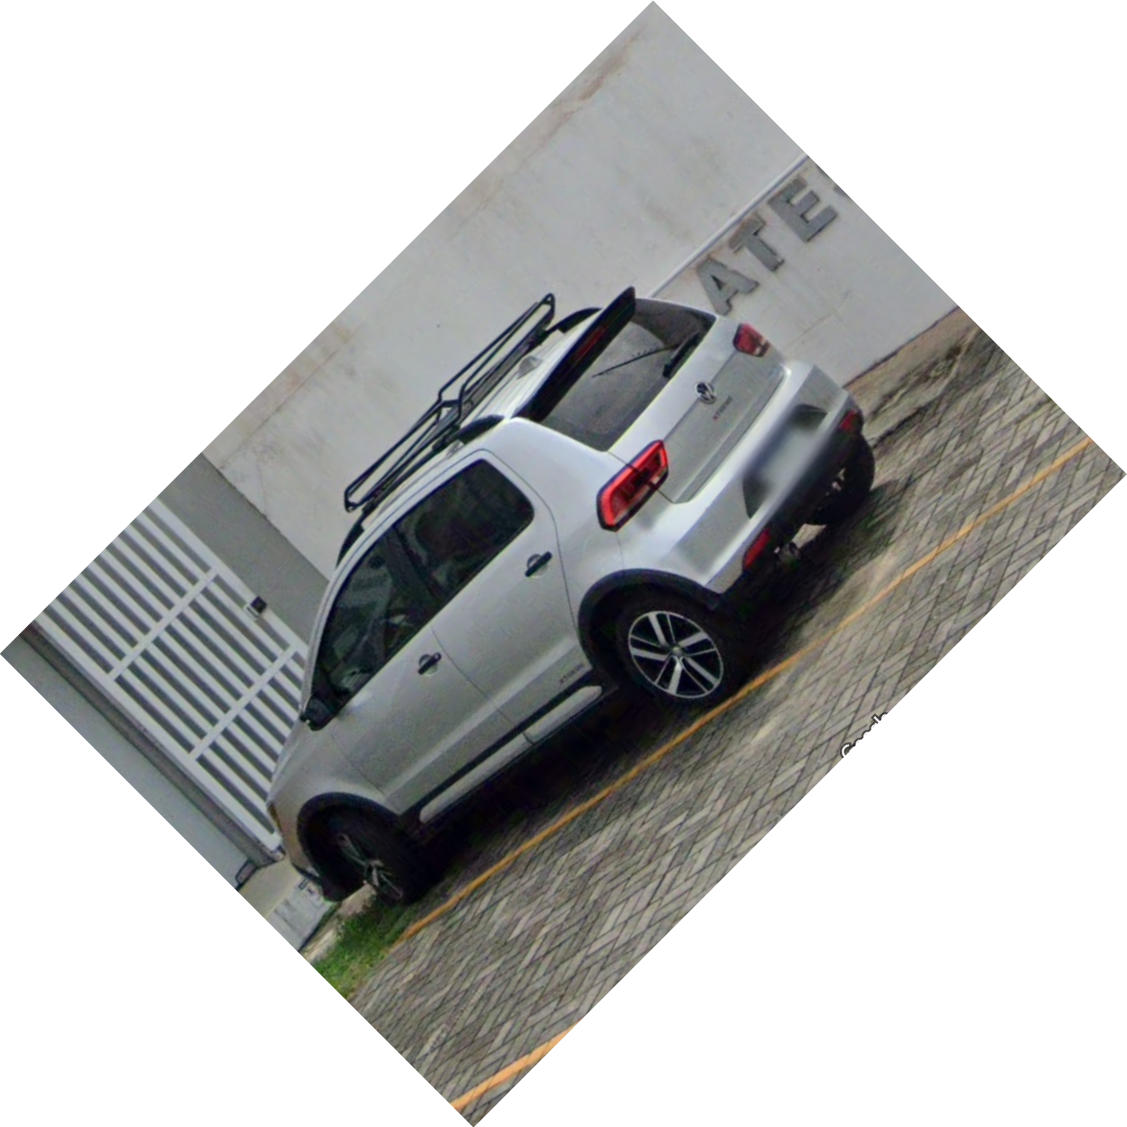car: (262, 283, 878, 909)
